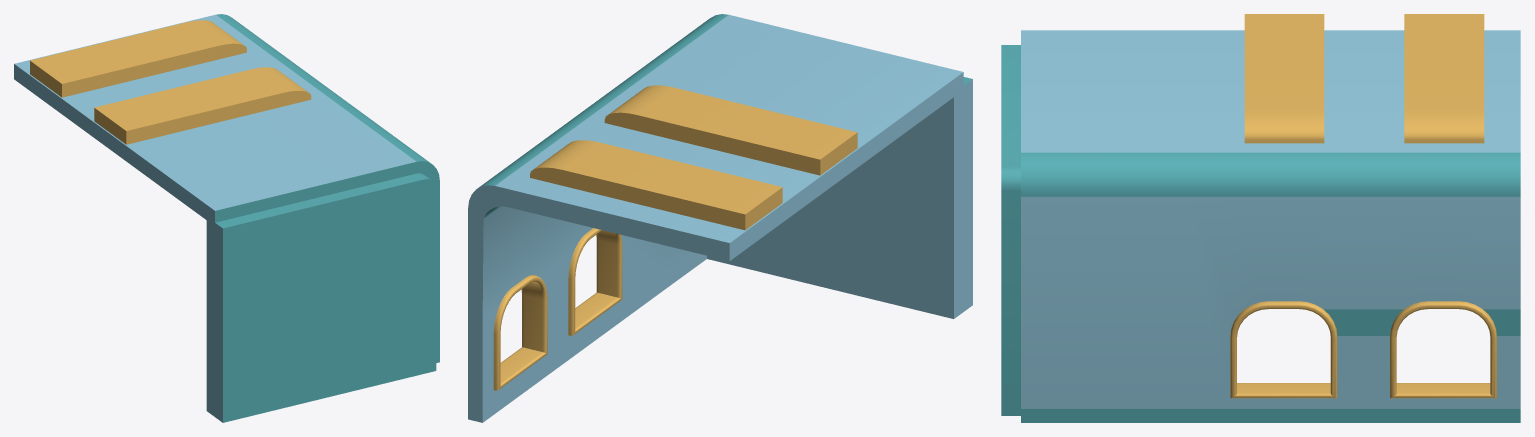
Rendered from techo_4.fbx.
The picture shows the model from 3 angles, left to right: view 1: azimuth 30°, elevation 25°; view 2: azimuth 150°, elevation 25°; view 3: azimuth 270°, elevation 25°; orthographic projection. The views are drawn at different scales.
Visible parts, largest first — view 1: Cylinder.002; view 2: Cylinder.002; view 3: Cylinder.002.
Part boxes in pixels (<box>): Cylinder.002: <box>14,14,439,422</box>; Cylinder.002: <box>468,14,972,422</box>; Cylinder.002: <box>1001,14,1520,422</box>.
Size of the model in its own units: 824 by 755 by 1300.
